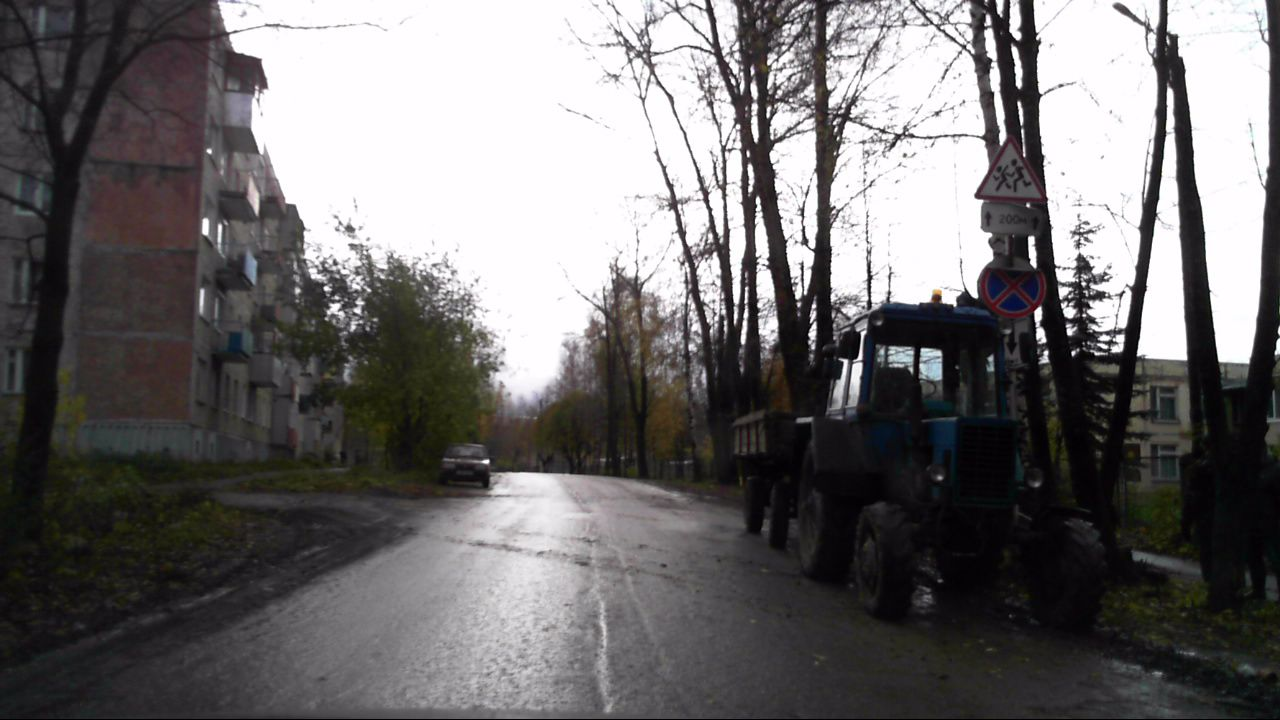No Parking: (976, 264, 1047, 320)
